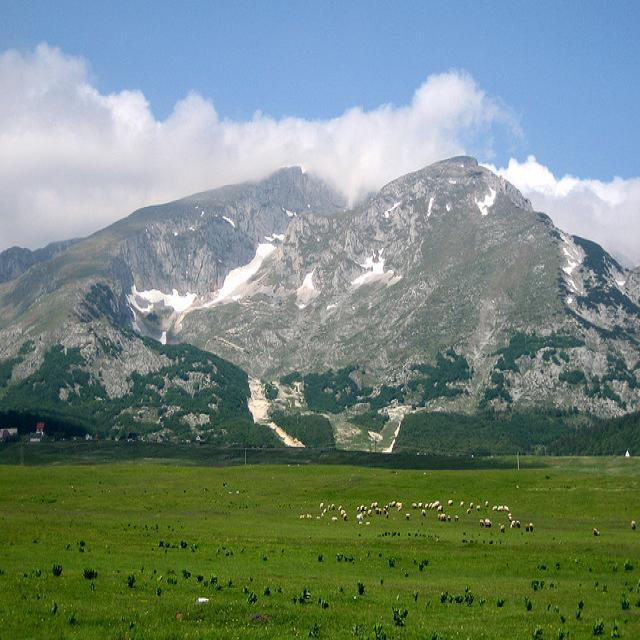cow: (355, 512, 363, 520)
